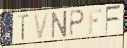F: (105, 5, 122, 36), (89, 7, 103, 35)
N: (51, 9, 68, 40)
P: (69, 9, 86, 37)
T: (17, 13, 31, 43)
V: (32, 11, 51, 42)
